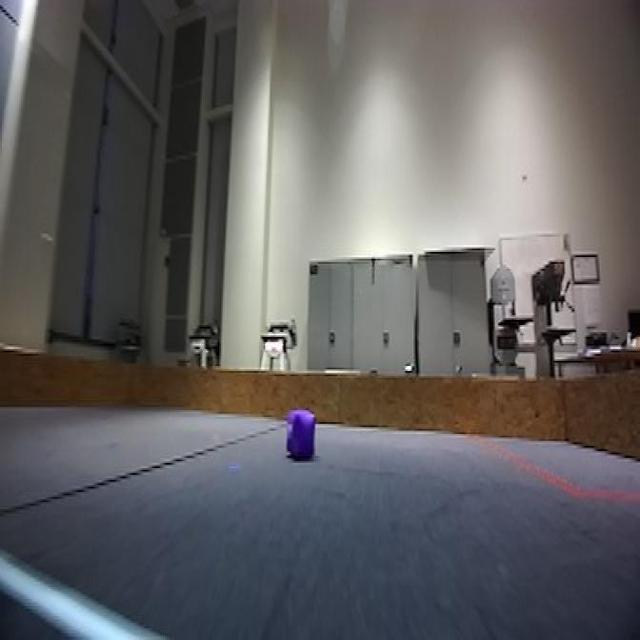frc_cube: (286, 408, 319, 464)
